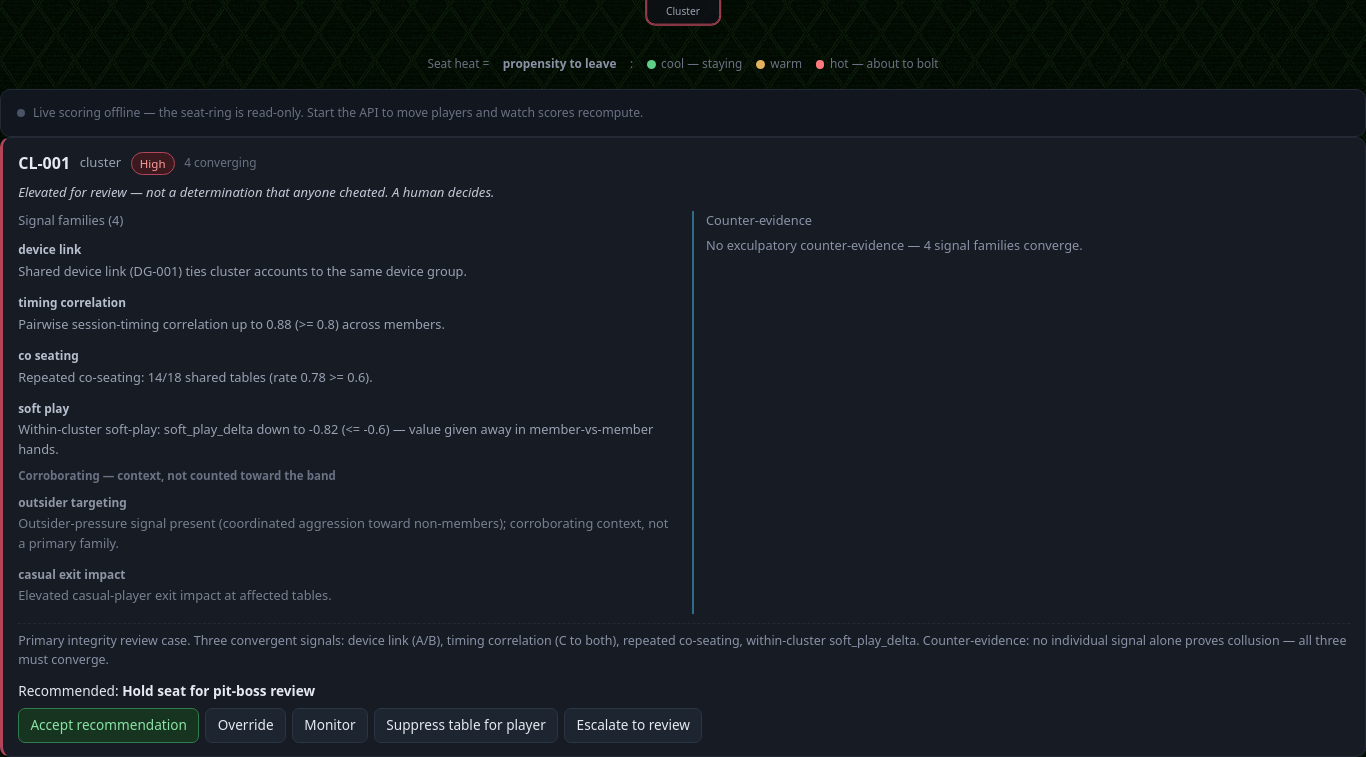
it: PitBossTableView — integrity case › operator action is a human confirm, logged, never auto-executed
(page scrolled)
What coordinates should you click on to do the following:
click the button "Accept recommendation"
I would click on:
 (109, 725)
Its box is x1=18 y1=708 x2=199 y2=743.
(page scrolled)
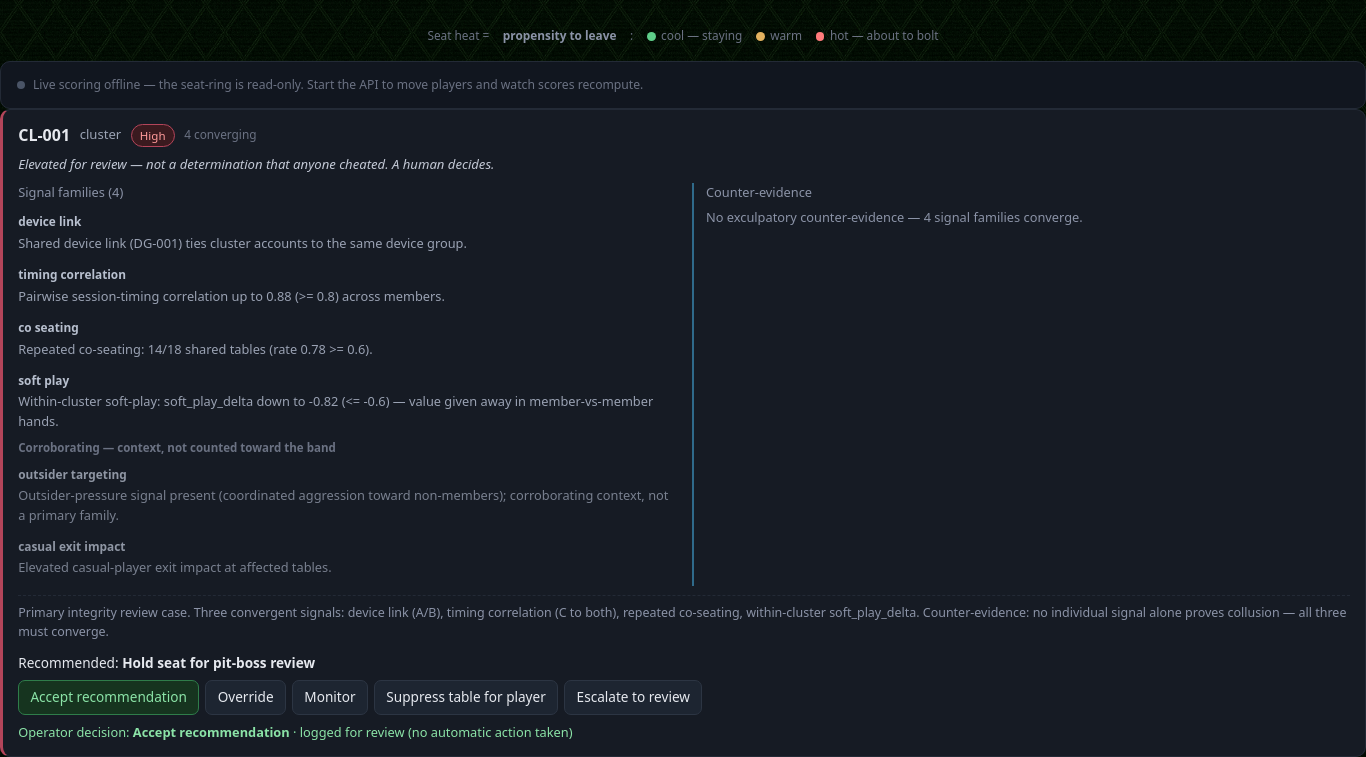
Now the message with test id "operator-decision" shows "no automatic action taken", box x1=290 y1=723 x2=572 y2=741
